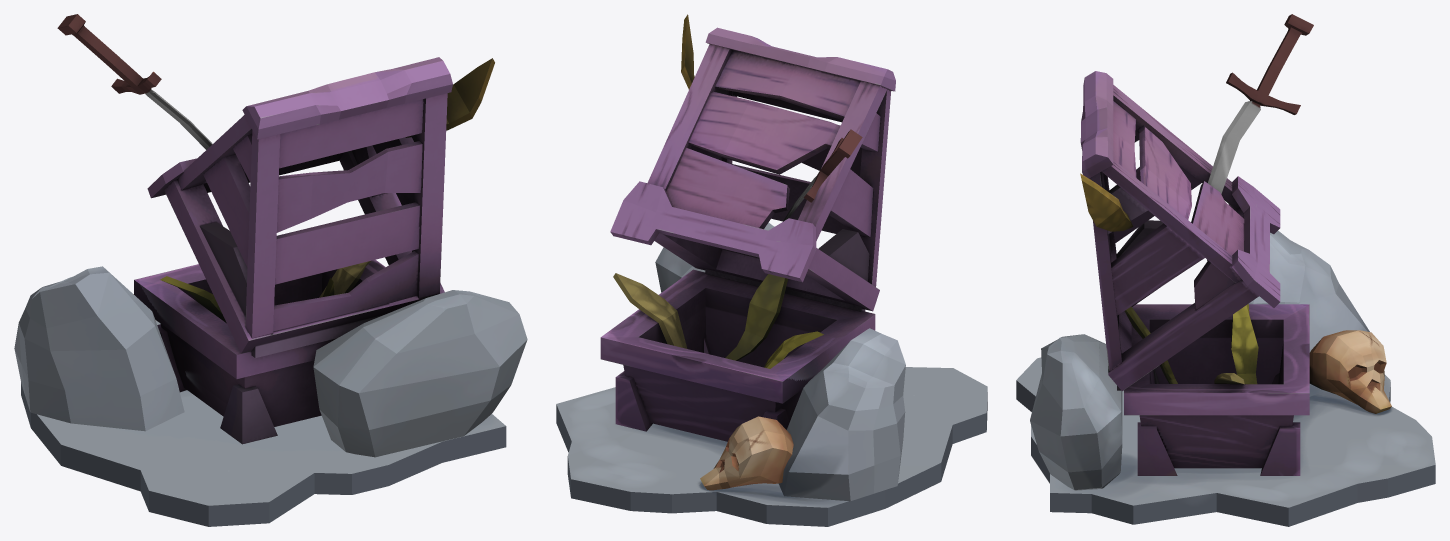
The model's file is Sword_Trash.fbx.
The picture shows the model from 3 angles, left to right: view 1: azimuth 30°, elevation 25°; view 2: azimuth 150°, elevation 25°; view 3: azimuth 270°, elevation 25°; orthographic projection. The views are drawn at different scales.
Parts seen in each view (by area): view 1: Sword_Trash; view 2: Sword_Trash; view 3: Sword_Trash.
Boxes of the visible parts, left/top/right/bottom form: Sword_Trash: left=14, top=14, right=527, bottom=526; Sword_Trash: left=556, top=14, right=987, bottom=526; Sword_Trash: left=1016, top=14, right=1435, bottom=526.
Bounding box in the file's own units: 4.95 × 4.99 × 5.15.
